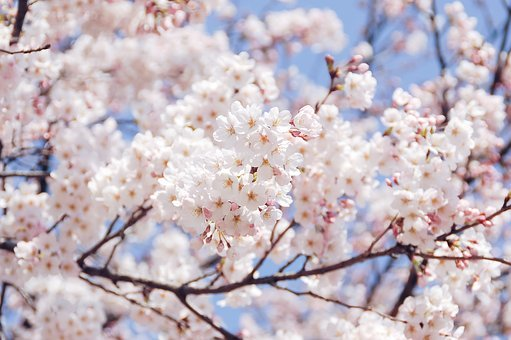flower: (9, 13, 511, 338)
tree: (7, 50, 509, 336)
